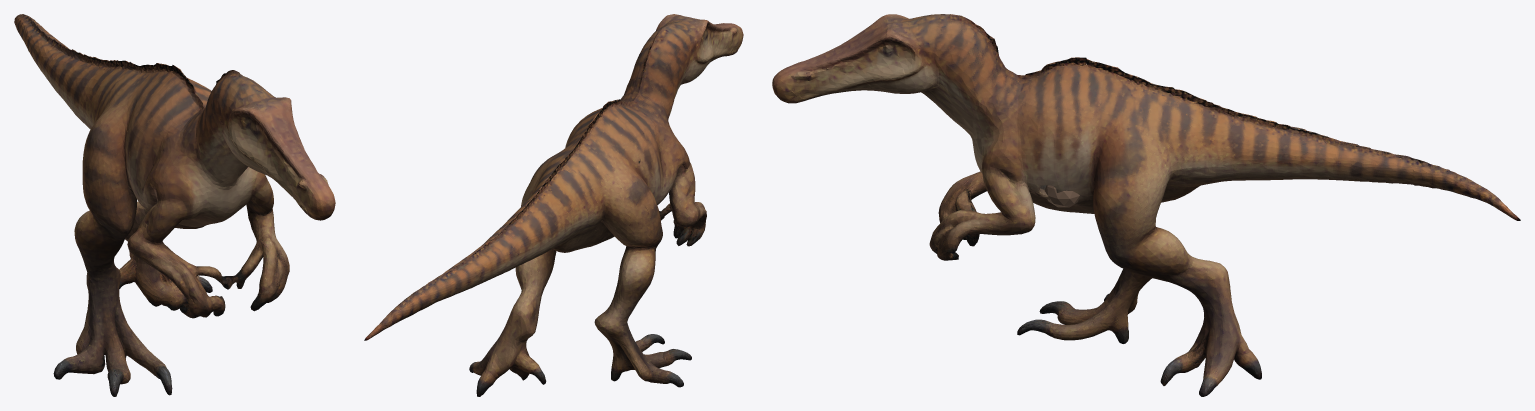
The picture shows the model from 3 angles, left to right: view 1: azimuth 30°, elevation 25°; view 2: azimuth 150°, elevation 25°; view 3: azimuth 270°, elevation 25°; orthographic projection. The views are drawn at different scales.
Parts seen in each view (by area): view 1: world; view 2: world; view 3: world.
Boxes of the visible parts, x1,y1,x2,y2 form: world: [14, 14, 335, 396]; world: [364, 14, 743, 396]; world: [772, 14, 1520, 396].
Bounding box in the file's own units: 0.3125 × 0.5066 × 0.9976.
1 material, 1 textured.
